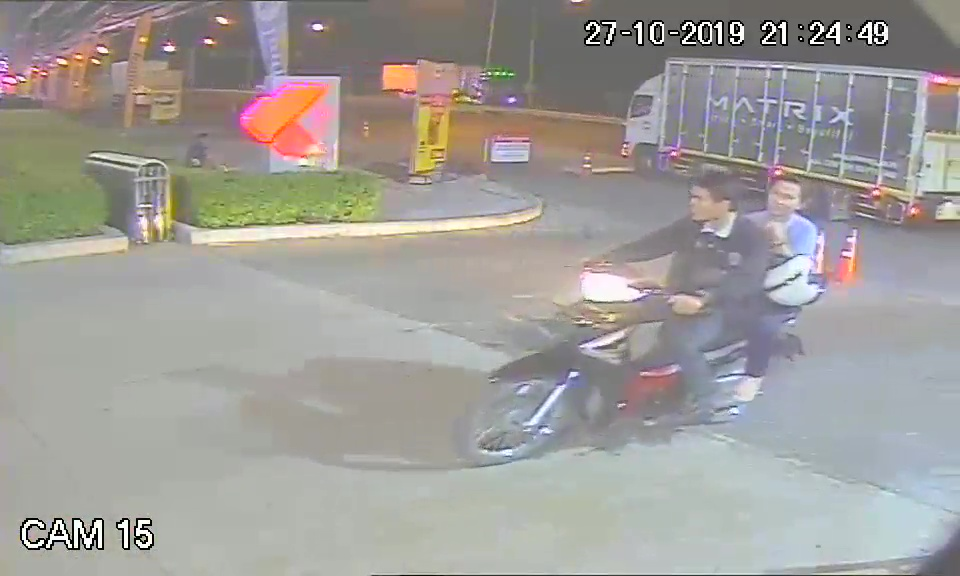motorcycle: (457, 257, 689, 469)
